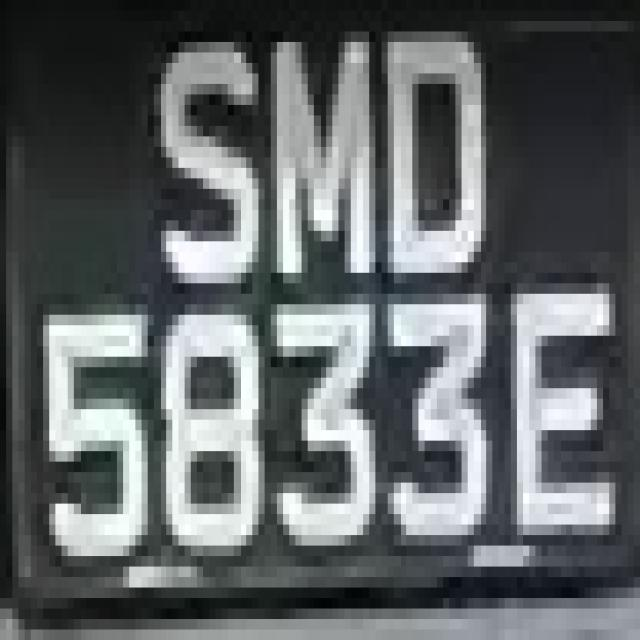3: (270, 273, 388, 598), (382, 315, 492, 556)
5: (18, 273, 142, 566)
8: (160, 315, 283, 556)
D: (375, 31, 480, 315)
E: (498, 252, 616, 587)
M: (258, 42, 382, 294)
S: (136, 31, 258, 294)
